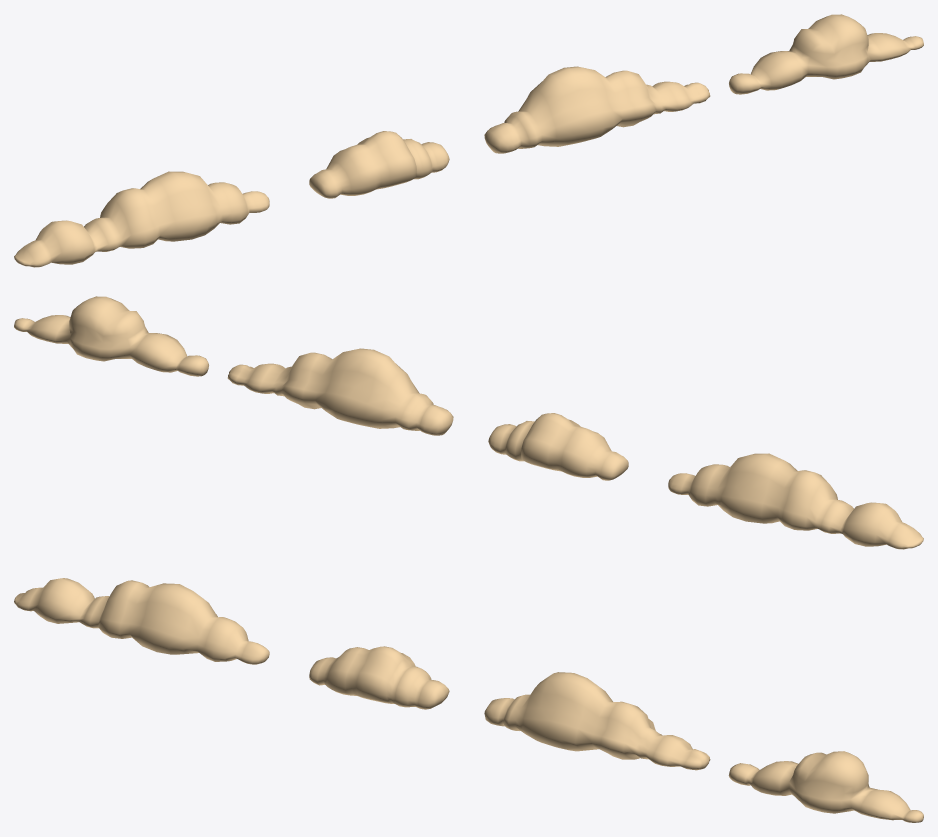
Rendered from Nubes_PrimerEscenario.fbx.
3 views of the same model, one above another, from view 1: azimuth 30°, elevation 25°; view 2: azimuth 150°, elevation 25°; view 3: azimuth 330°, elevation 25° (orthographic).
Visible parts, largest first — view 1: MDL_Nube_15, MDL_Nube_6, MDL_Nube_13, MDL_Nube_5; view 2: MDL_Nube_15, MDL_Nube_6, MDL_Nube_13, MDL_Nube_5; view 3: MDL_Nube_15, MDL_Nube_6, MDL_Nube_13, MDL_Nube_5.
Part boxes in pixels (x1,y1,x2,y2): MDL_Nube_15: (14, 171, 269, 267); MDL_Nube_6: (484, 66, 710, 153); MDL_Nube_13: (729, 14, 923, 94); MDL_Nube_5: (309, 131, 449, 198); MDL_Nube_15: (668, 453, 923, 549); MDL_Nube_6: (227, 348, 453, 435); MDL_Nube_13: (14, 296, 208, 376); MDL_Nube_5: (488, 413, 628, 480); MDL_Nube_15: (14, 578, 269, 664); MDL_Nube_6: (484, 672, 710, 770); MDL_Nube_13: (728, 751, 923, 822); MDL_Nube_5: (309, 646, 449, 709).
Size of the model in its own units: 2625 by 202 by 216.
